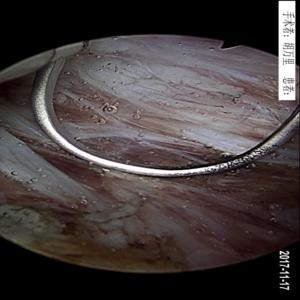film: (10, 42, 290, 255)
